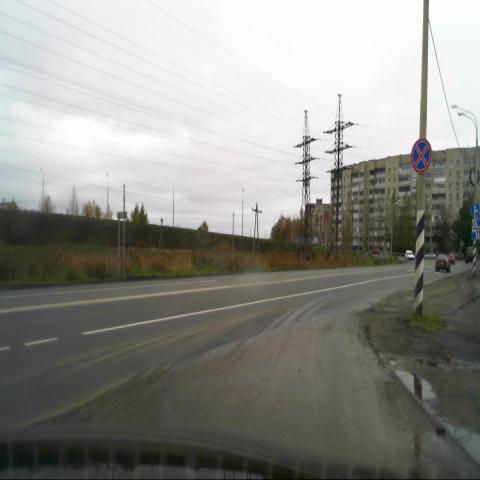3_27: (410, 136, 433, 174)
4_1_4: (470, 202, 480, 218)
